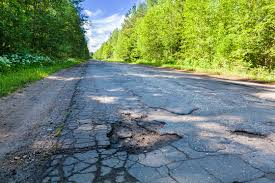pothole: (74, 106, 191, 167), (6, 136, 59, 183)
